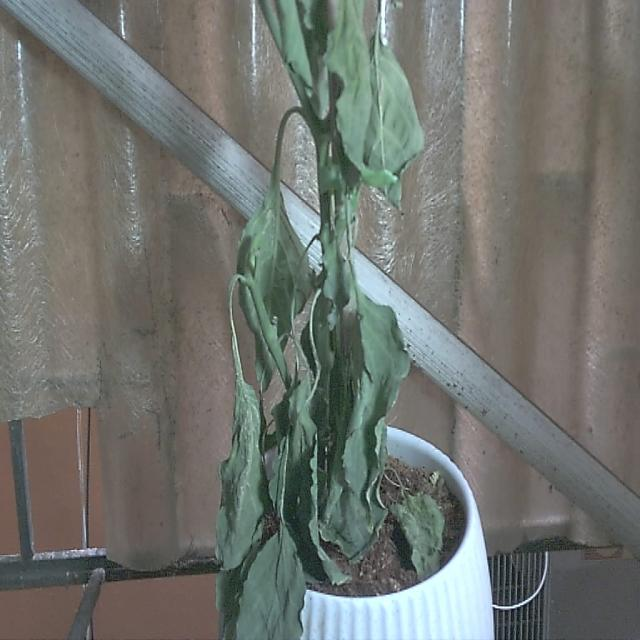Leaf: (217, 334, 267, 569), (363, 30, 423, 206), (237, 527, 306, 639), (391, 494, 444, 579)
